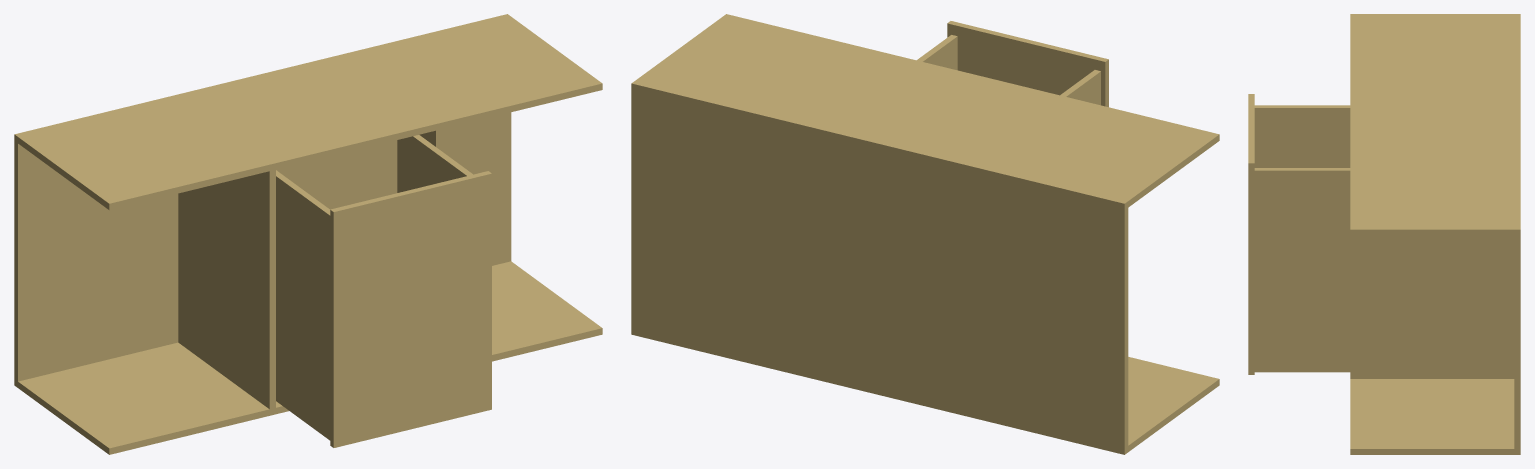
The model's file is meuble_69131010bce92.glb.
3 renders of one model, left to right at view 1: azimuth 30°, elevation 25°; view 2: azimuth 150°, elevation 25°; view 3: azimuth 270°, elevation 25°, orthographic. The views are drawn at different scales.
Visible parts, largest first — view 1: world; view 2: world; view 3: world.
Part boxes in pixels (box(x1,y1,x2,y2)): world: box(14, 14, 602, 454); world: box(631, 14, 1219, 454); world: box(1248, 14, 1520, 454).
Bounding box in the file's own units: 1.5 × 0.73 × 0.8.
